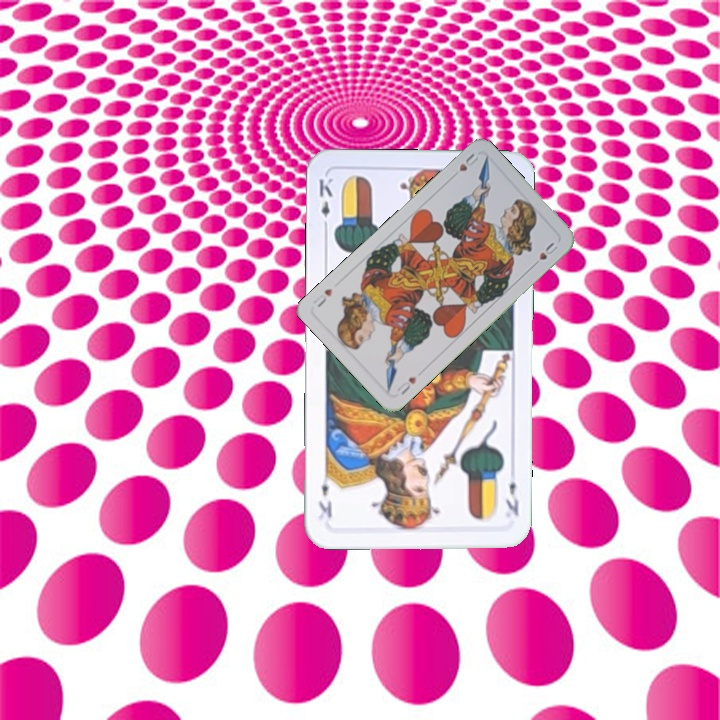EK: (315, 174, 336, 233), (501, 477, 521, 518)
HU: (392, 372, 419, 397), (455, 149, 481, 174)
